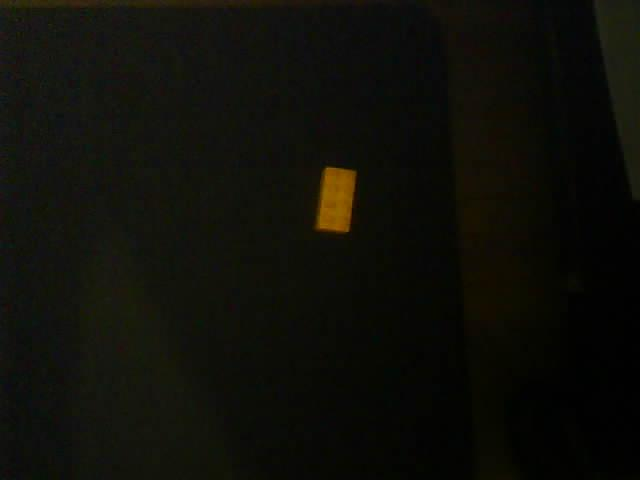lego: (313, 165, 357, 233)
